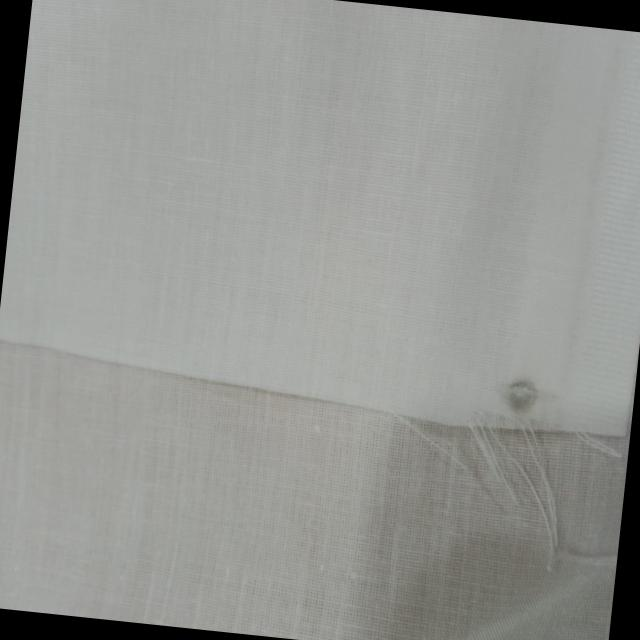stain: (483, 362, 556, 426)
